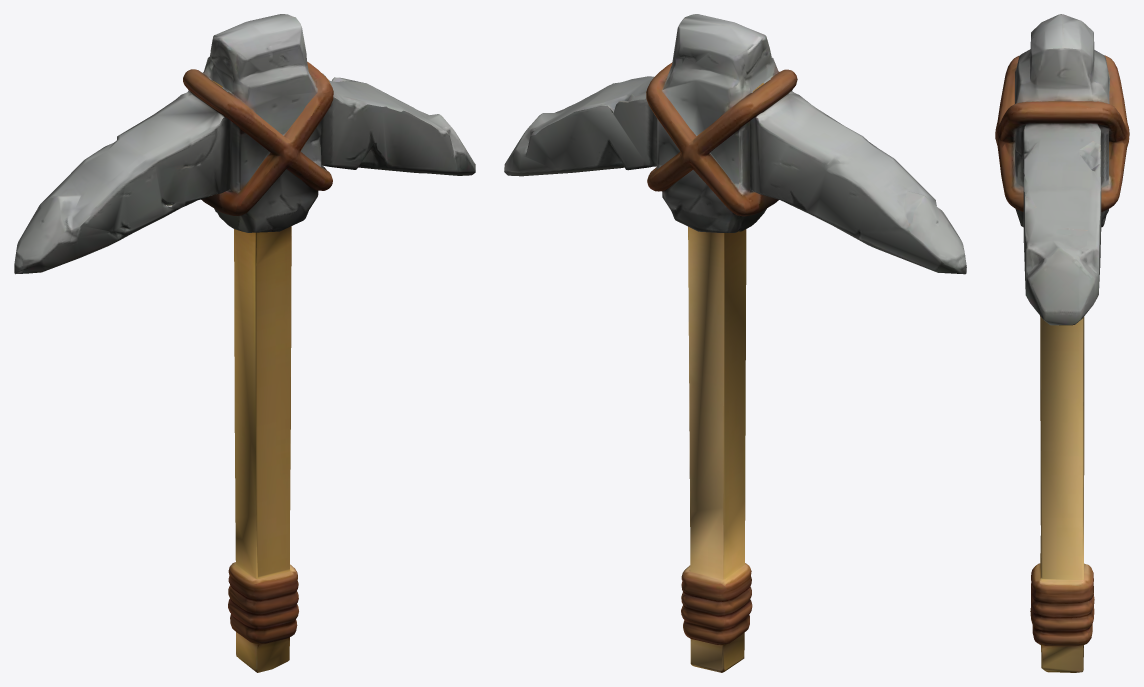
File: war-room-pickaxe.glb
3 views of the same model, side by side, from view 1: azimuth 30°, elevation 25°; view 2: azimuth 150°, elevation 25°; view 3: azimuth 270°, elevation 25° (orthographic).
Parts seen in each view (by area): view 1: Pickaxe; view 2: Pickaxe; view 3: Pickaxe.
Boxes of the visible parts, x1,y1,x2,y2 form: Pickaxe: (14, 14, 475, 672); Pickaxe: (504, 14, 966, 672); Pickaxe: (995, 14, 1129, 672).
Bounding box in the file's own units: 0.6665 × 0.8997 × 0.1723.
Materials: 1 (1 with a texture image).
